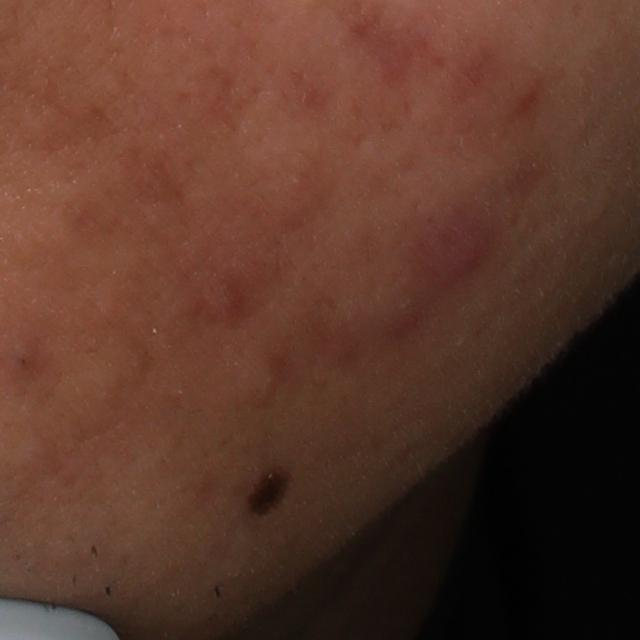nevus: (247, 464, 293, 516)
